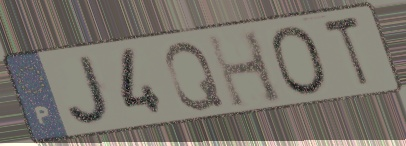4: (116, 45, 171, 122)
H: (203, 27, 288, 112)
J: (64, 52, 116, 128)
O: (267, 23, 333, 97)
Q: (163, 39, 228, 114)
T: (319, 12, 373, 91)
